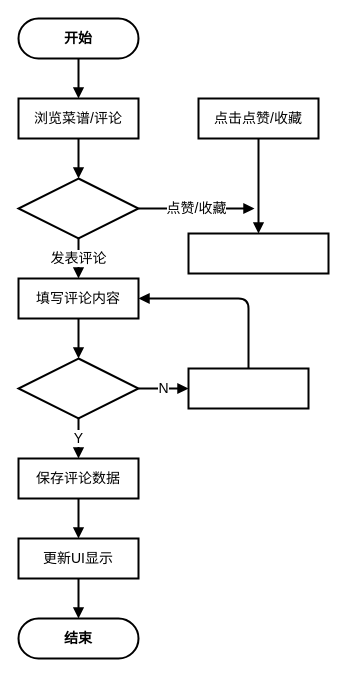
This 346x676 diagram has some shape labels left out. Each missing label, with the centre of its shape:
"内容是否合规?" belongs at point 78,388.
"拦截驳回" belongs at point 248,388.
"操作数据库(新增/取消)" belongs at point 258,253.
"选择互动类型" belongs at point 78,208.
